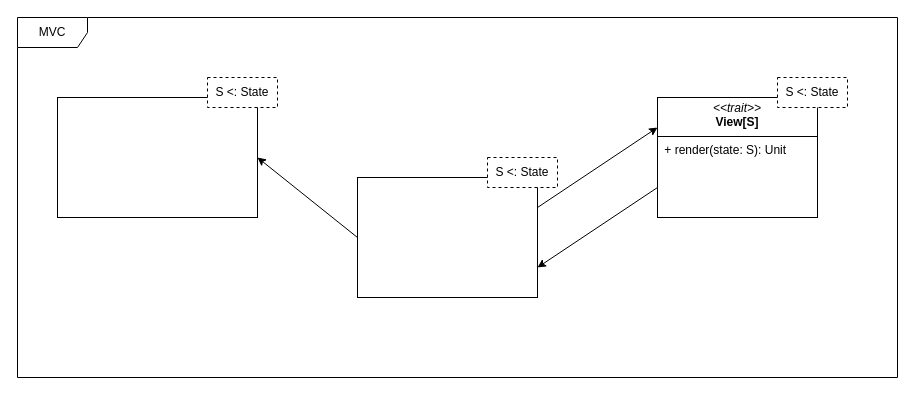
This 915x395 diagram has some shape labels left out. Each missing label, with the box of its shape:
<<trait>> Controller[S] + simulationLoop(state: S): Unit: (356, 176, 538, 298)
<<trait>> Model[S] + update(state: S, fun: S => S): S: (56, 96, 258, 218)
